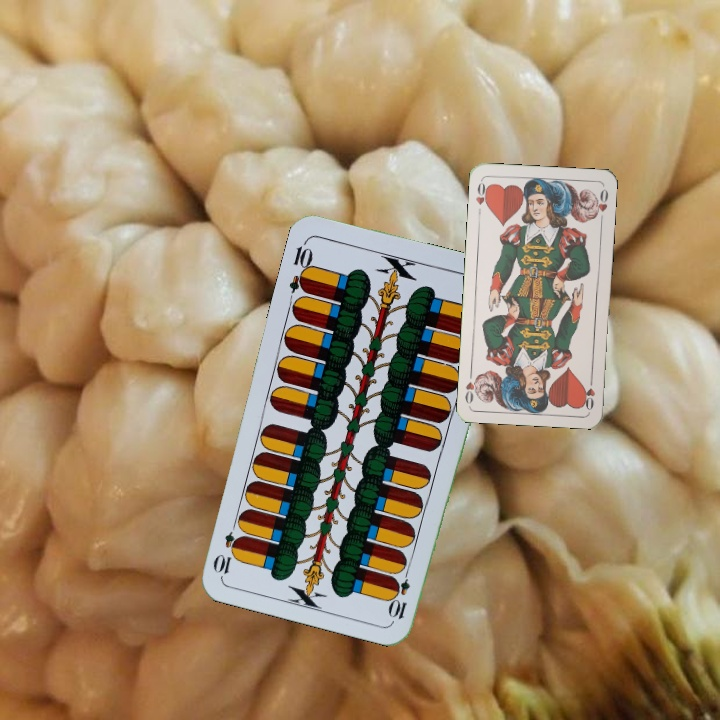E10: (285, 236, 316, 295), (387, 563, 413, 622)
HO: (472, 177, 491, 218), (581, 372, 598, 413)
